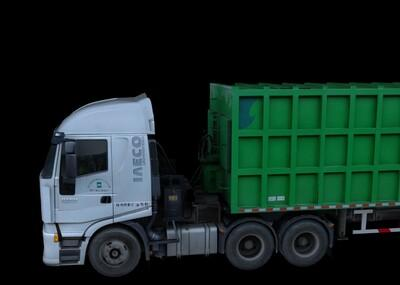truck: (36, 70, 400, 276)
